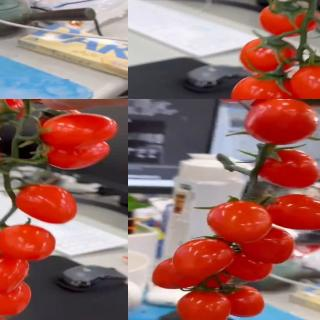tomato: (243, 99, 319, 144), (38, 112, 119, 152), (207, 201, 273, 245), (256, 149, 320, 192), (15, 182, 80, 224), (172, 238, 235, 280), (39, 137, 112, 171), (258, 1, 320, 39), (238, 37, 298, 75), (240, 225, 296, 264), (263, 194, 320, 232), (0, 222, 56, 260), (152, 257, 214, 291), (229, 73, 301, 99), (176, 289, 232, 320), (223, 284, 266, 317), (0, 279, 32, 317), (0, 252, 29, 293), (291, 63, 320, 99), (0, 99, 29, 126)
